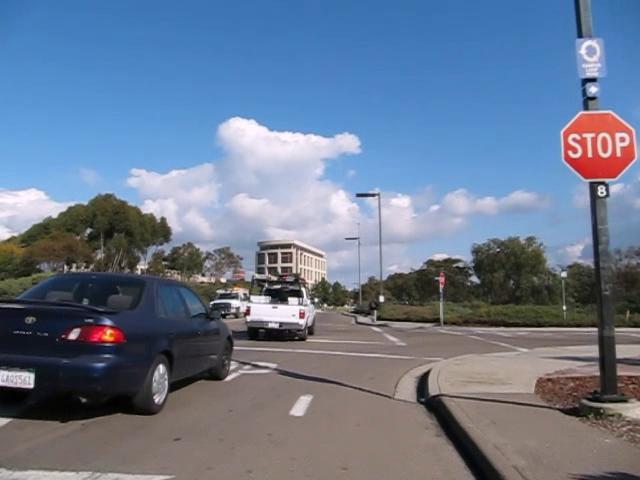stop: (560, 109, 637, 181)
